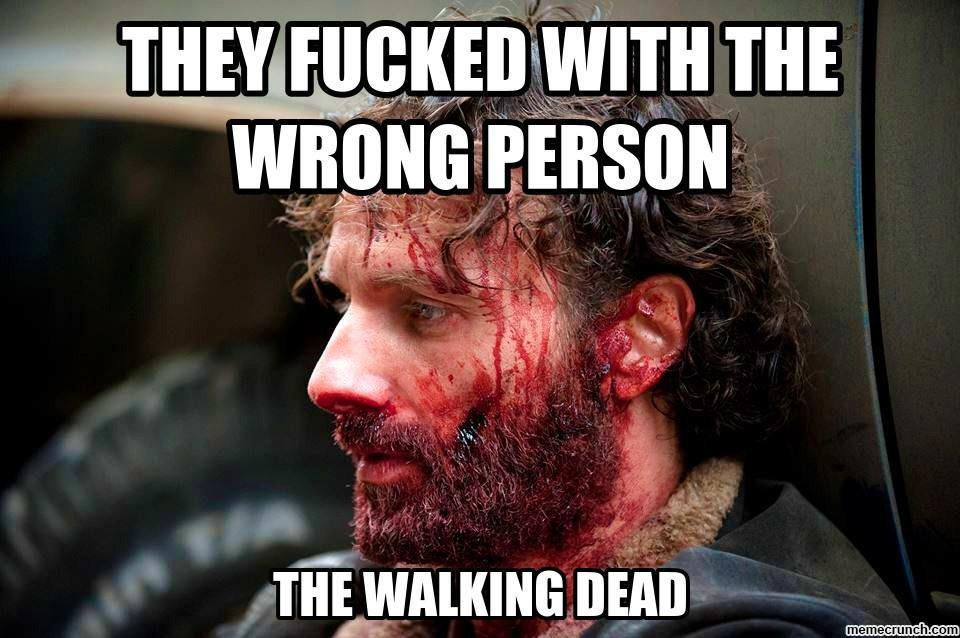Fire: (308, 200, 697, 570)
